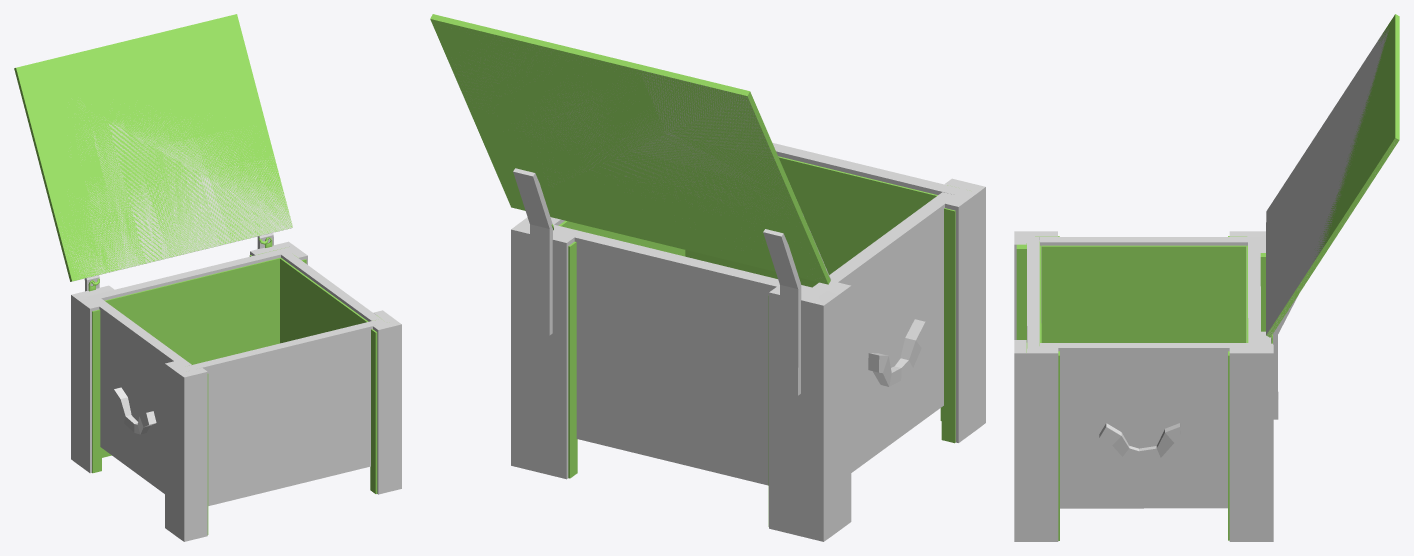
The model's file is Wooden_Box_3_Open_M.fbx.
3 renders of one model, left to right at view 1: azimuth 30°, elevation 25°; view 2: azimuth 150°, elevation 25°; view 3: azimuth 270°, elevation 25°, orthographic. The views are drawn at different scales.
Visible parts, largest first — view 1: Wooden_Box_3_Coll, Wooden Box_3_LOD0; view 2: Wooden_Box_3_Coll, Wooden Box_3_LOD0; view 3: Wooden_Box_3_Coll, Wooden Box_3_LOD0.
Part boxes in pixels (left/top/right/bottom): Wooden_Box_3_Coll: left=62, top=108, right=401, bottom=541; Wooden Box_3_LOD0: left=14, top=14, right=379, bottom=534; Wooden_Box_3_Coll: left=451, top=28, right=985, bottom=541; Wooden Box_3_LOD0: left=430, top=14, right=955, bottom=526; Wooden_Box_3_Coll: left=1014, top=28, right=1395, bottom=541; Wooden Box_3_LOD0: left=1016, top=14, right=1399, bottom=540.
Size of what is drawn, in the model's own units: 80.96 by 124 by 107.
